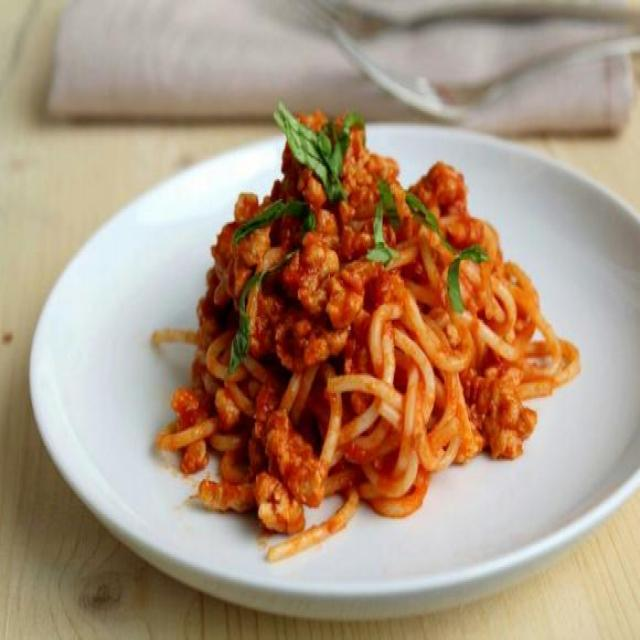Pasta al ragu: (163, 68, 571, 544)
